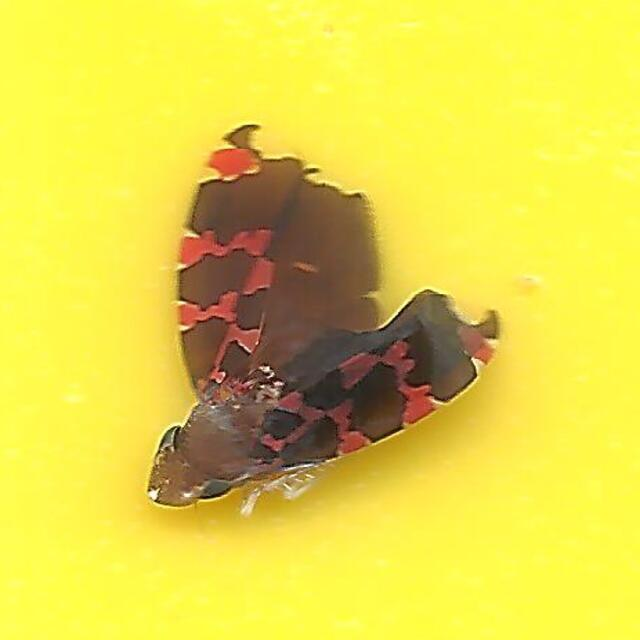Hemiptera: (138, 120, 502, 520)
